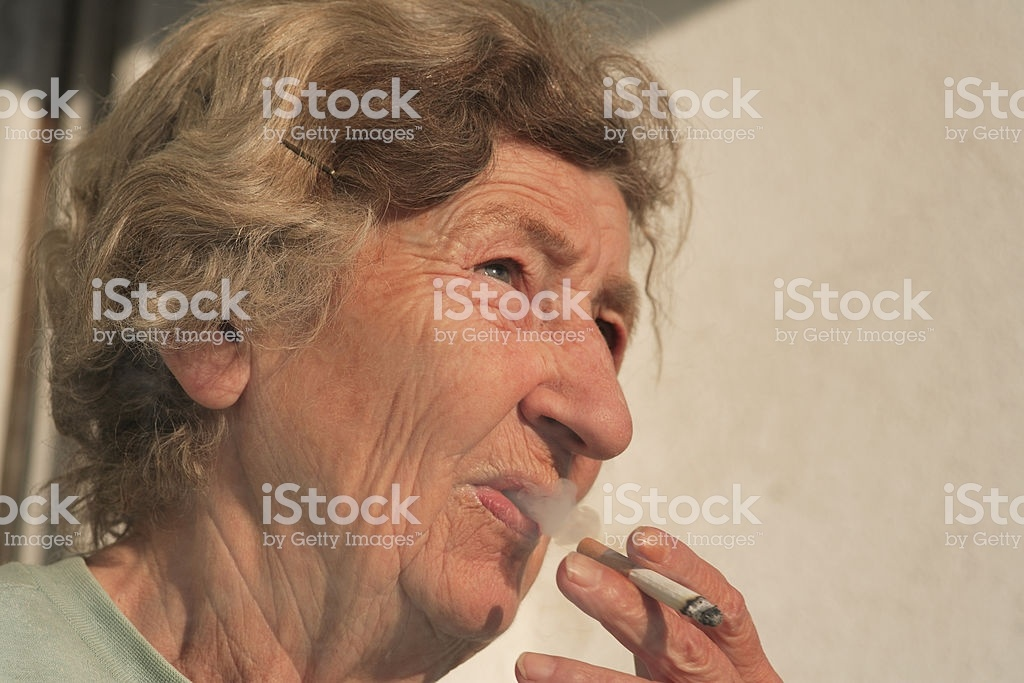sigaretta: (562, 539, 747, 627)
